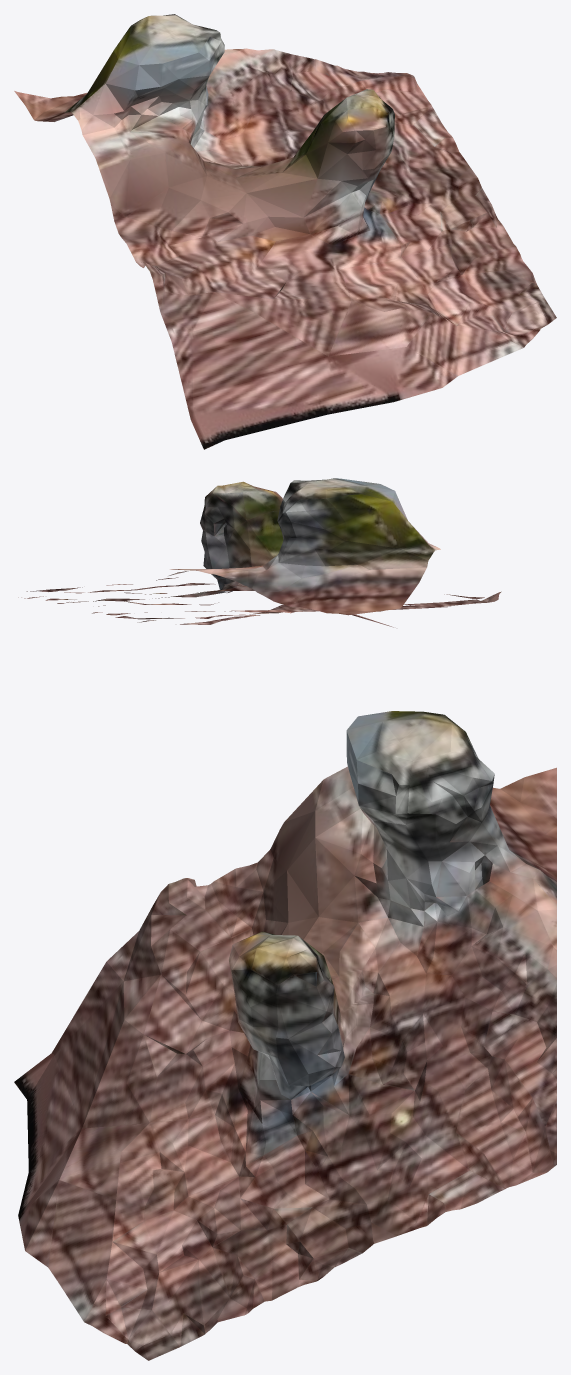
3 views of the same model, one above another, from view 1: azimuth 30°, elevation 25°; view 2: azimuth 150°, elevation 25°; view 3: azimuth 270°, elevation 25° (orthographic). The views are drawn at different scales.
Size of the model in its own units: 3.35 by 2.38 by 2.76.
3 materials, 3 textured.
